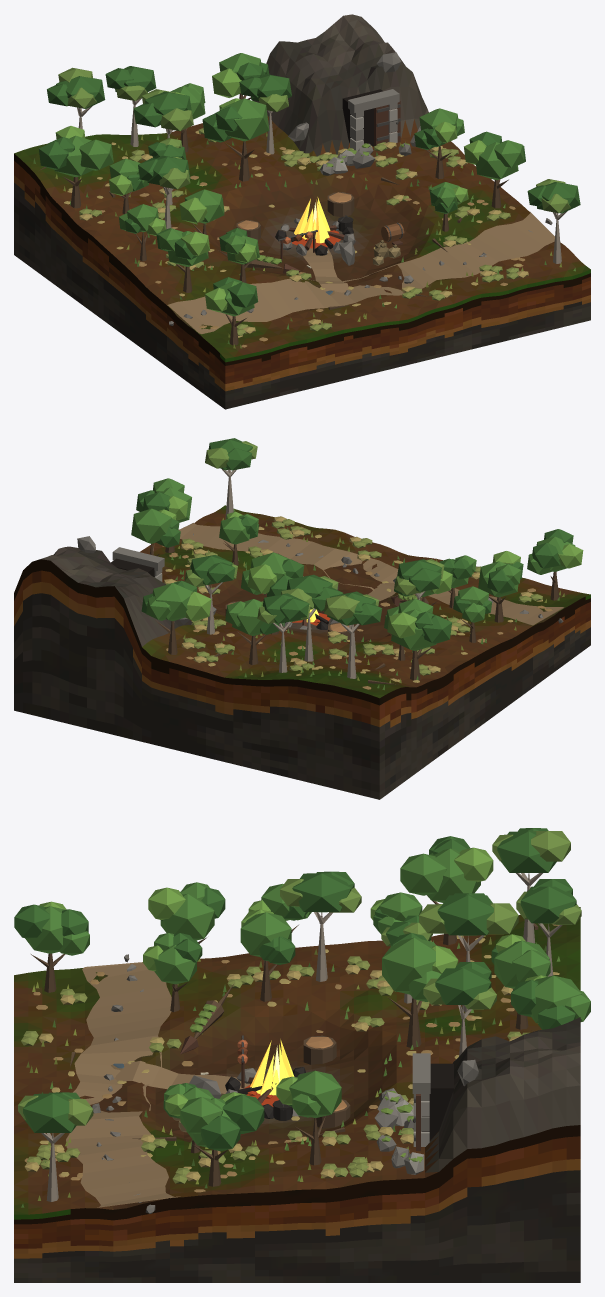
Rendered from trolls-camp.glb.
3 renders of one model, top to bottom at view 1: azimuth 30°, elevation 25°; view 2: azimuth 150°, elevation 25°; view 3: azimuth 270°, elevation 25°, orthographic. The views are drawn at different scales.
Parts seen in each view (by area): view 1: trollshaws, terrain, plinth, crag, door-cave; view 2: plinth, trollshaws, terrain, crag; view 3: trollshaws, terrain, plinth, crag.
Boxes of the visible parts, x1,y1,x2,y2 form: trollshaws: (33,52,580,348); terrain: (14,123,590,358); plinth: (14,153,590,409); crag: (252,14,428,156); door-cave: (374,100,400,146); plinth: (14,559,590,799); trollshaws: (77,438,583,690); terrain: (140,505,590,698); crag: (35,546,194,655); trollshaws: (14,828,590,1213); terrain: (14,907,580,1214); plinth: (14,1125,580,1282); crag: (425,1017,580,1177).
Bounding box in the file's own units: 15.3 × 6.68 × 14.25.
